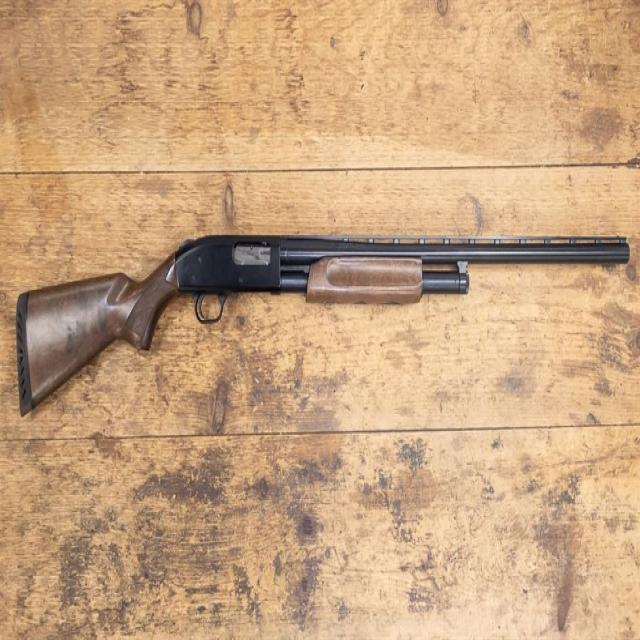ShotGun: (16, 235, 631, 413)
